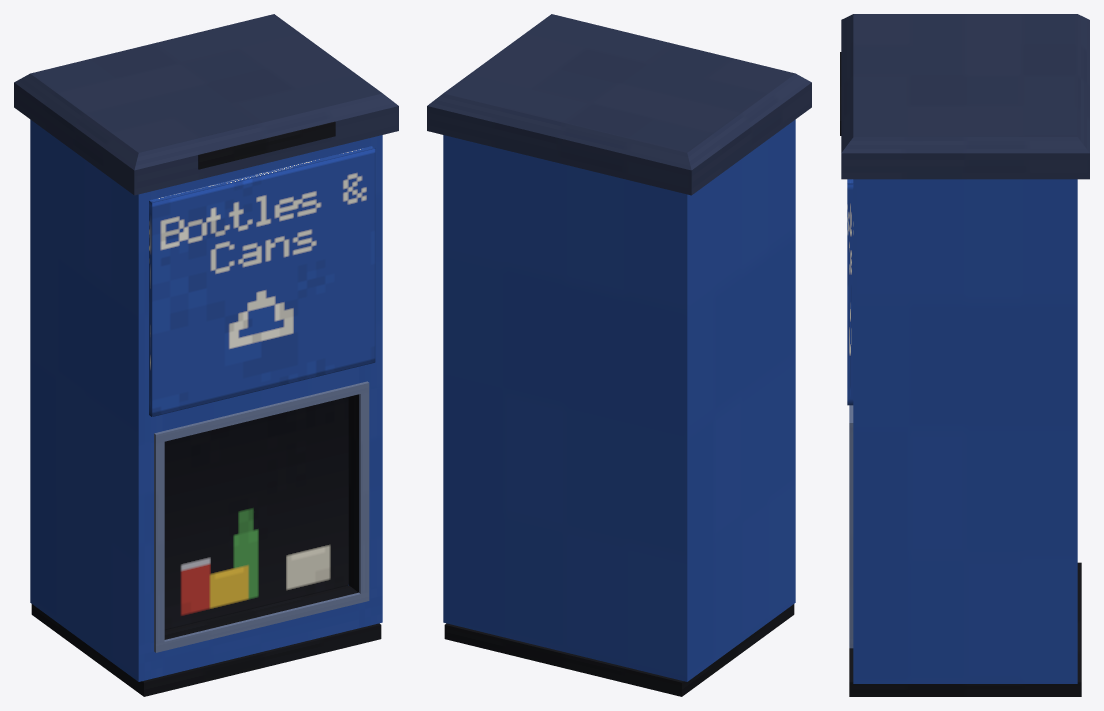
File: SM_Bin_02.fbx
The picture shows the model from 3 angles, left to right: view 1: azimuth 30°, elevation 25°; view 2: azimuth 150°, elevation 25°; view 3: azimuth 270°, elevation 25°; orthographic projection. The views are drawn at different scales.
Visible parts, largest first — view 1: SM_Bin_02; view 2: SM_Bin_02; view 3: SM_Bin_02.
Part boxes in pixels (box(x1,y1,x2,y2)): SM_Bin_02: box(14, 14, 398, 696); SM_Bin_02: box(427, 14, 811, 696); SM_Bin_02: box(840, 14, 1089, 696).
Bounding box in the file's own units: 0.7743 × 1.52 × 0.613.
2 materials, 2 textured.
